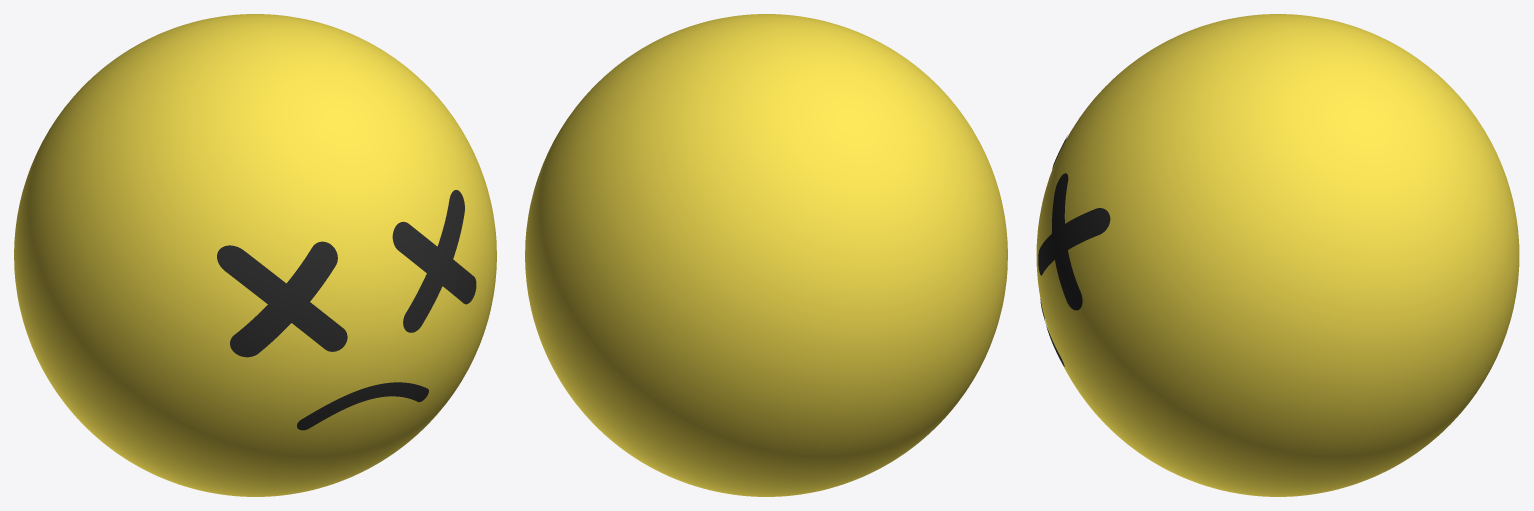
3 views of the same model, side by side, from view 1: azimuth 30°, elevation 25°; view 2: azimuth 150°, elevation 25°; view 3: azimuth 270°, elevation 25° (orthographic).
Parts seen in each view (by area): view 1: 03-yellow-x-eyes; view 2: 03-yellow-x-eyes; view 3: 03-yellow-x-eyes.
Part boxes in pixels (x1,y1,x2,y2): 03-yellow-x-eyes: [14, 14, 496, 496]; 03-yellow-x-eyes: [525, 14, 1007, 496]; 03-yellow-x-eyes: [1036, 14, 1519, 496].
Size of the model in its own units: 2 by 2 by 2.
